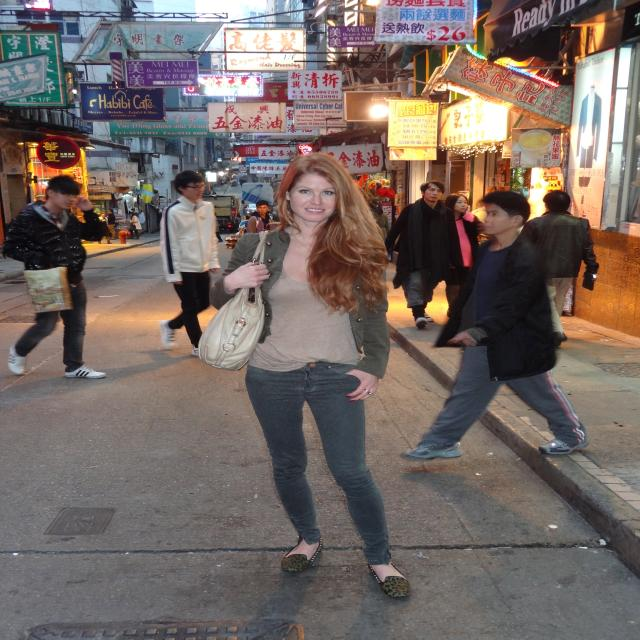body: (198, 150, 416, 600), (399, 191, 592, 460), (5, 174, 110, 380), (157, 169, 224, 357), (517, 190, 599, 342), (383, 180, 456, 330), (194, 158, 293, 247), (359, 151, 388, 337), (571, 76, 607, 222), (444, 193, 487, 289), (245, 199, 280, 234), (83, 202, 101, 235), (97, 212, 113, 244), (128, 212, 142, 239), (106, 208, 116, 240)
